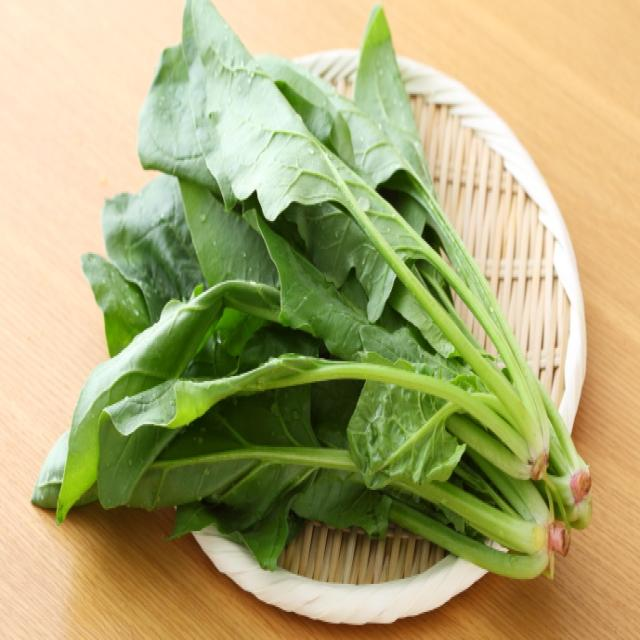Wet Waste: (30, 0, 601, 593)
